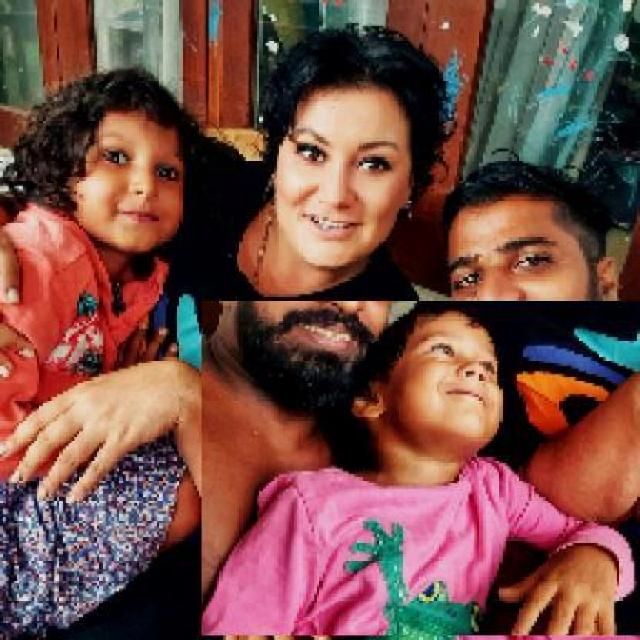child: (200, 300, 640, 637), (2, 65, 212, 638)
